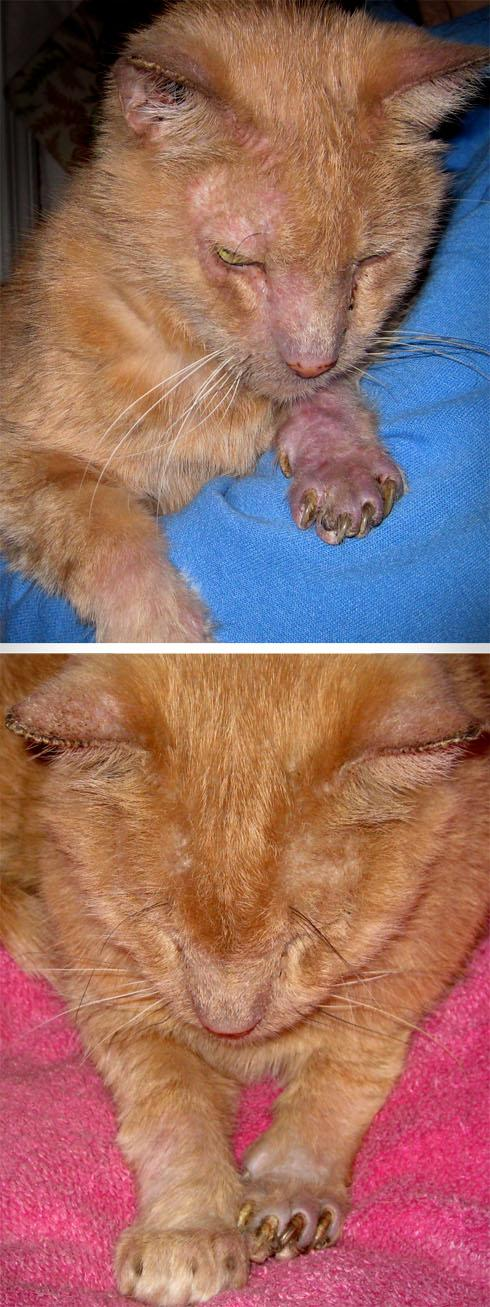ringworm: (292, 412, 390, 485), (197, 172, 290, 238)
